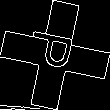P_E: (27, 32, 83, 78)
